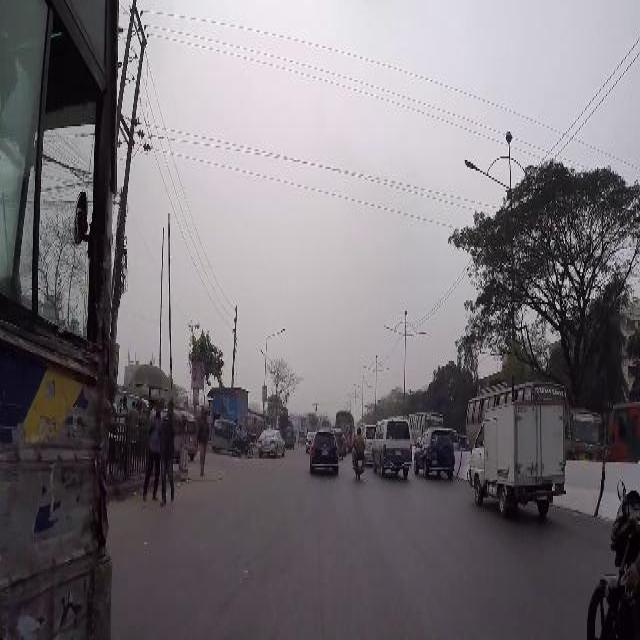10: (580, 468, 638, 634), (350, 423, 366, 484), (231, 420, 253, 458)
11: (466, 397, 566, 518)
15: (413, 427, 455, 480)
17: (163, 405, 197, 459), (211, 418, 237, 453), (284, 426, 294, 449), (297, 426, 305, 444)
19: (371, 415, 413, 477)
5: (309, 429, 339, 474), (257, 428, 285, 457), (304, 428, 314, 450)
Truck: (1, 2, 118, 634), (464, 380, 570, 452), (570, 402, 602, 458), (610, 398, 638, 460), (408, 409, 444, 444), (335, 407, 355, 450)
